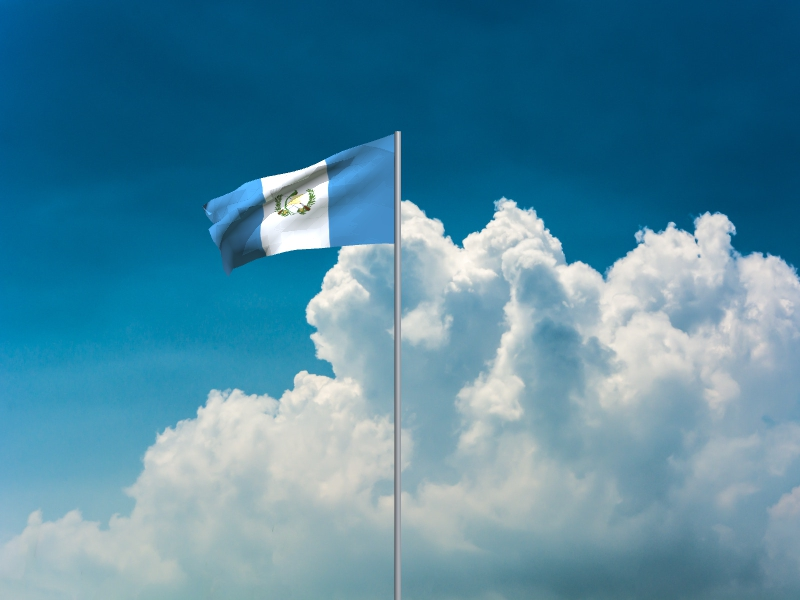gt: (201, 134, 395, 278)
